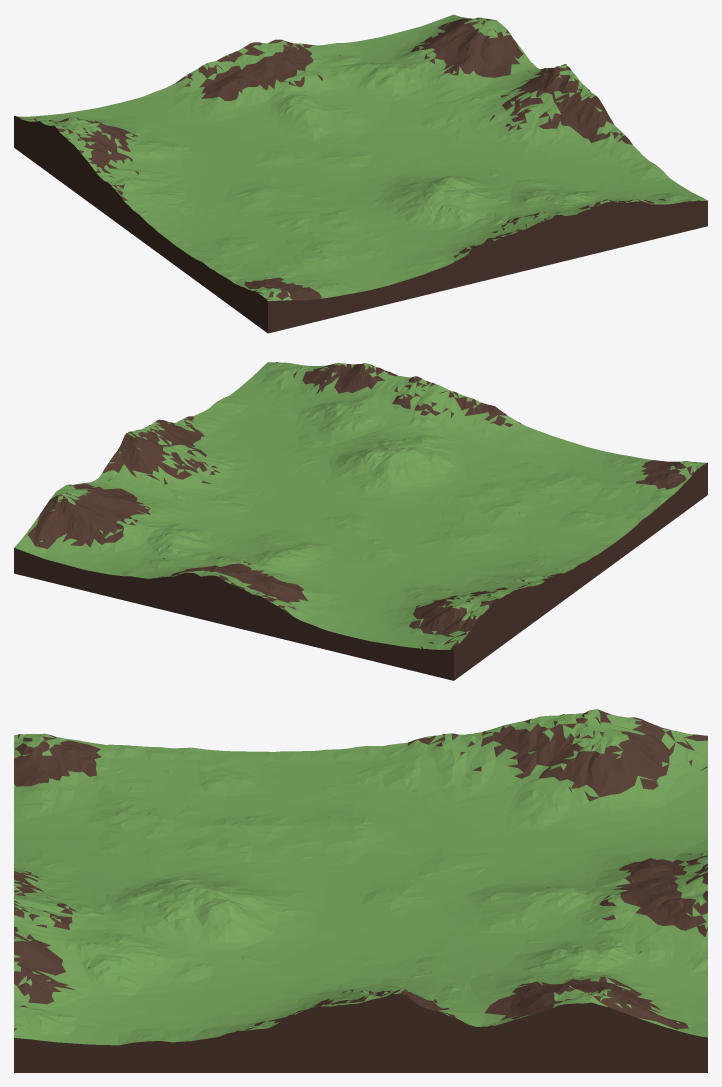
File: rolling hills game map.glb
The picture shows the model from 3 angles, top to bottom: view 1: azimuth 30°, elevation 25°; view 2: azimuth 150°, elevation 25°; view 3: azimuth 270°, elevation 25°; orthographic projection. The views are drawn at different scales.
Visible parts, largest first — view 1: Plane; view 2: Plane; view 3: Plane.
Boxes of the visible parts, <box> form: Plane: <box>14,14,707,333</box>; Plane: <box>14,362,707,680</box>; Plane: <box>14,709,707,1072</box>.
Bounding box in the file's own units: 1000 × 127 × 1000.
